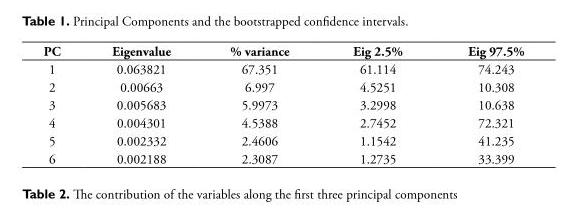table: (42, 42, 523, 167)
table column: (199, 42, 320, 167), (85, 42, 199, 167), (320, 42, 434, 167), (434, 42, 523, 167), (42, 42, 85, 167)
table row: (42, 59, 523, 78), (42, 95, 523, 113), (42, 113, 523, 131), (42, 131, 523, 149), (42, 149, 523, 167), (42, 42, 523, 59), (42, 78, 523, 95)
